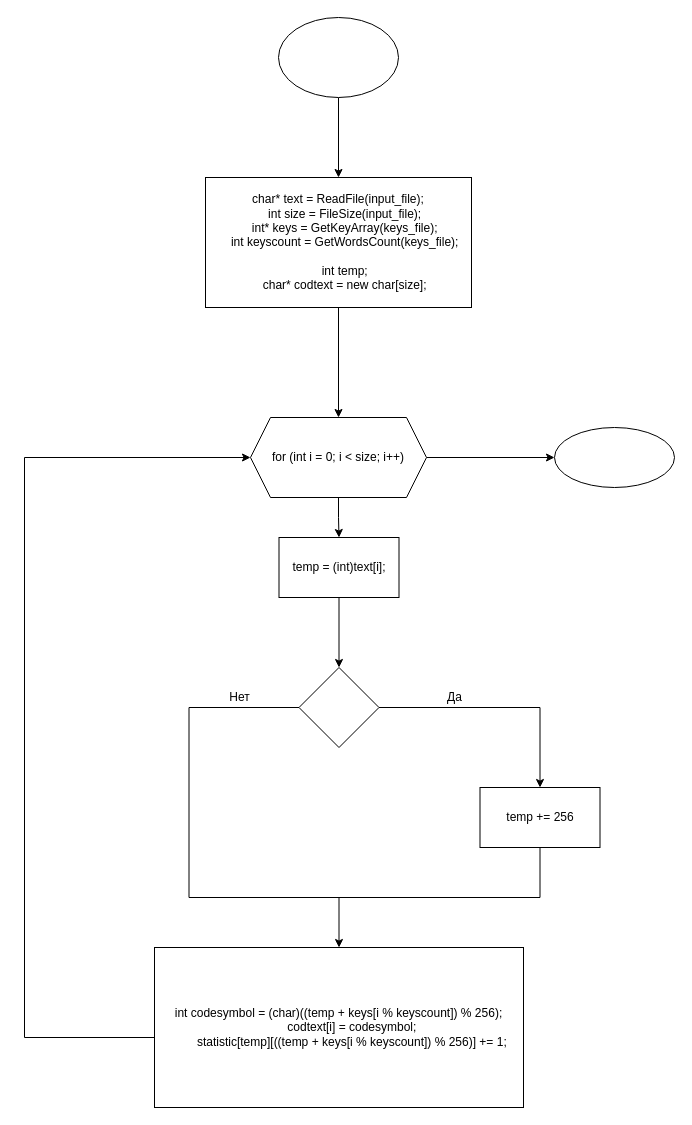
This 692x1125 diagram has some shape labels left out. The shapes that lost their labels are listed below. From the top down, each one's centre as x and y in pixels, then its label:
At point (338, 57): "Начало".
At point (614, 457): "return codtext; Конец".
At point (338, 707): "temp < 0".
